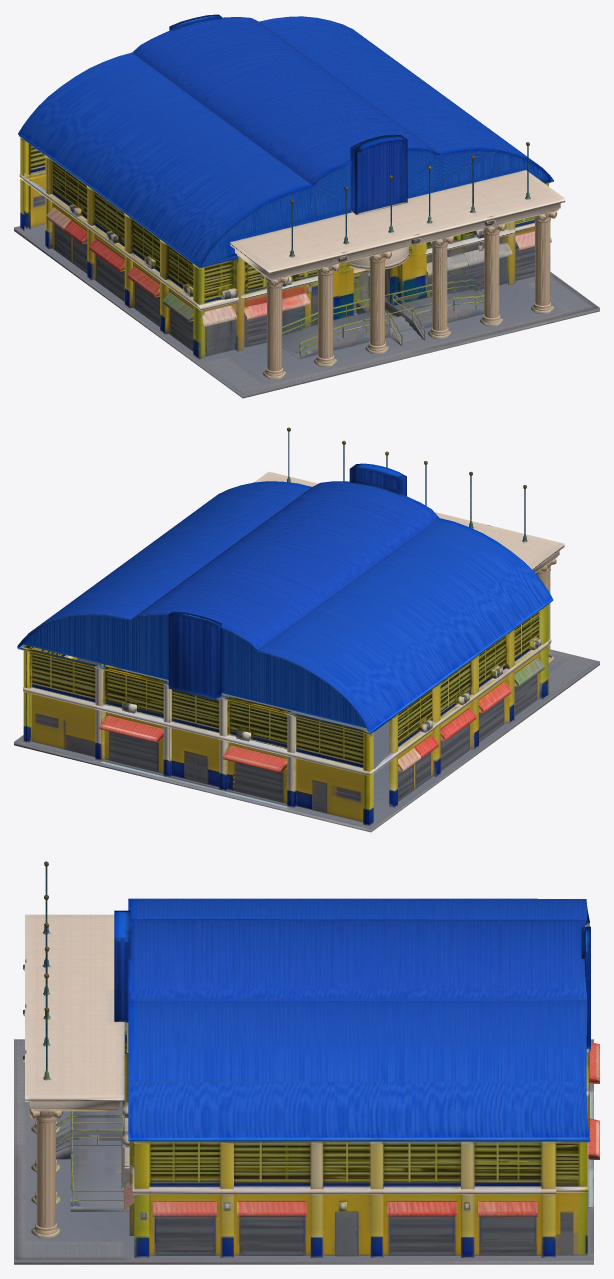
File: olocuilta-market.glb
The picture shows the model from 3 angles, top to bottom: view 1: azimuth 30°, elevation 25°; view 2: azimuth 150°, elevation 25°; view 3: azimuth 270°, elevation 25°; orthographic projection. The views are drawn at different scales.
Parts seen in each view (by area): view 1: tripo_node_613ae3c7-f171-4ce4-aaaa-142cbeb3d67b; view 2: tripo_node_613ae3c7-f171-4ce4-aaaa-142cbeb3d67b; view 3: tripo_node_613ae3c7-f171-4ce4-aaaa-142cbeb3d67b.
Boxes of the visible parts, x1,y1,x2,y2 form: tripo_node_613ae3c7-f171-4ce4-aaaa-142cbeb3d67b: [14, 14, 599, 398]; tripo_node_613ae3c7-f171-4ce4-aaaa-142cbeb3d67b: [14, 427, 599, 832]; tripo_node_613ae3c7-f171-4ce4-aaaa-142cbeb3d67b: [14, 861, 599, 1264].
Bounding box in the file's own units: 0.8911 × 0.439 × 0.9995.
1 material, 1 textured.
